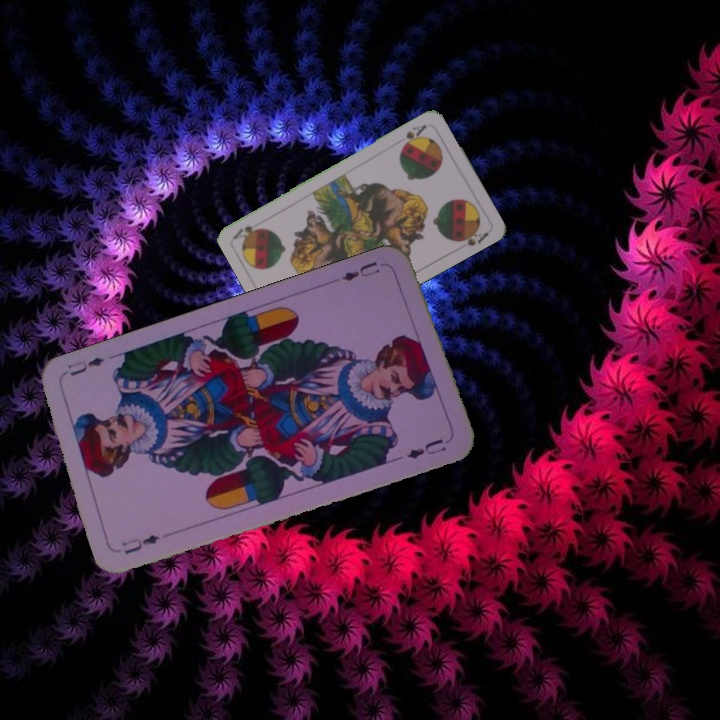EU: (117, 530, 163, 557), (338, 257, 383, 284)
SA: (398, 120, 430, 151)
